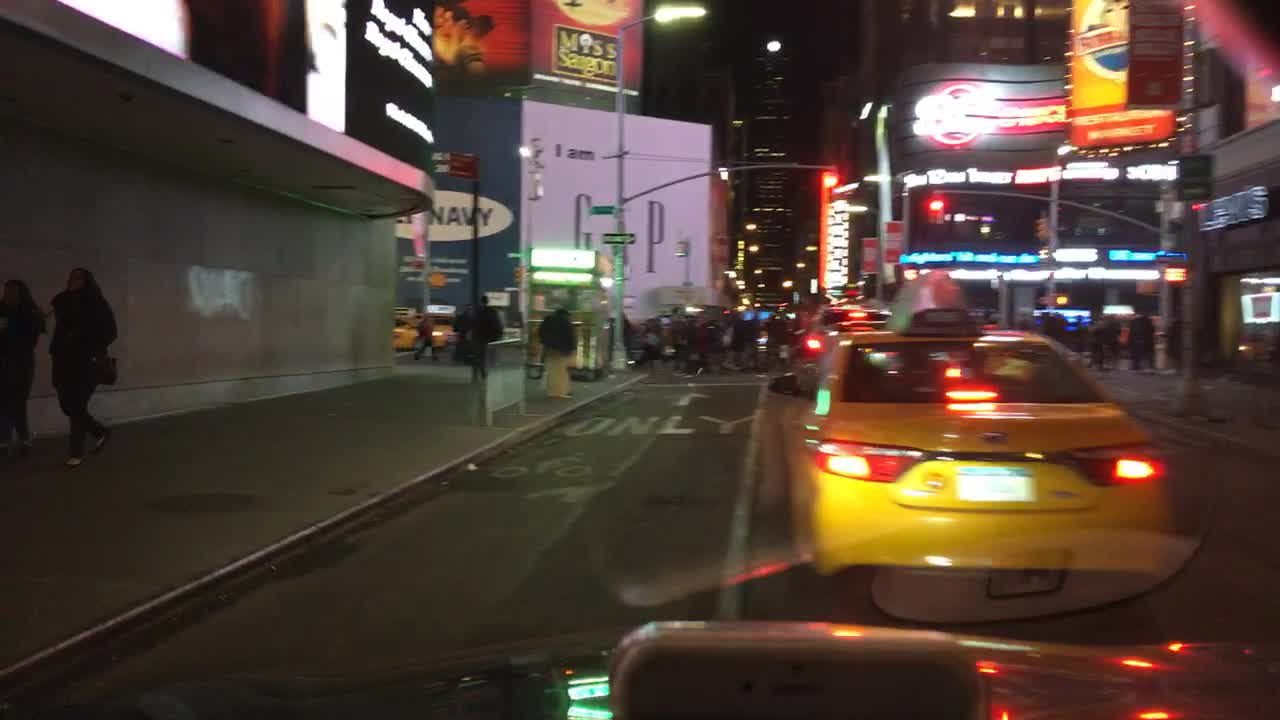car: (768, 306, 1199, 627), (797, 301, 891, 385), (390, 305, 425, 350), (423, 304, 456, 349)
person: (47, 258, 122, 475), (1, 277, 51, 469), (537, 304, 578, 400), (476, 290, 505, 383), (450, 299, 480, 363), (1128, 311, 1158, 374), (739, 310, 760, 376), (638, 326, 659, 376), (413, 309, 434, 358), (1088, 323, 1107, 368), (694, 320, 710, 370), (623, 313, 639, 360), (670, 315, 685, 365), (731, 310, 745, 361), (1107, 319, 1123, 361), (710, 317, 724, 360), (659, 321, 672, 359)
traffic light: (1165, 268, 1182, 278), (823, 170, 835, 184), (1188, 200, 1201, 210), (929, 199, 940, 207)
traffic sign: (1176, 150, 1215, 177), (1173, 174, 1213, 199), (447, 155, 475, 177), (602, 231, 633, 244), (587, 203, 617, 215)
